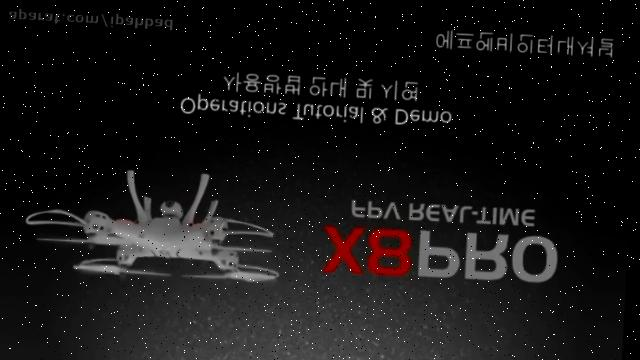drone: (24, 162, 288, 287)
